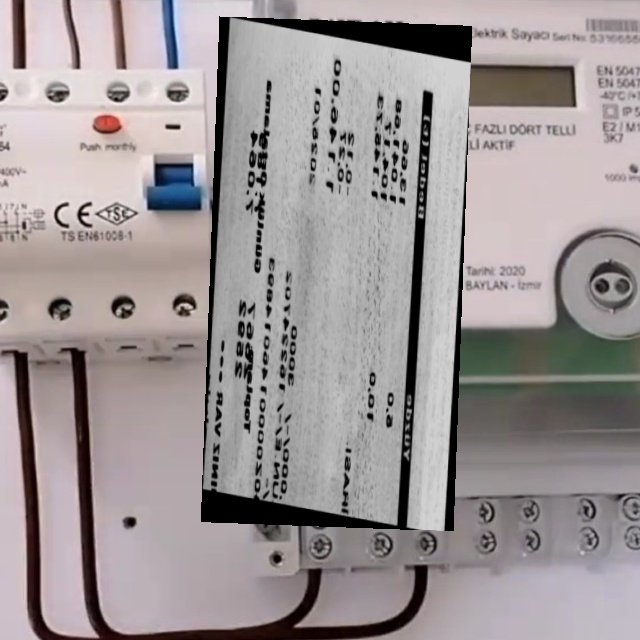electricity-bill: (200, 16, 472, 531)
